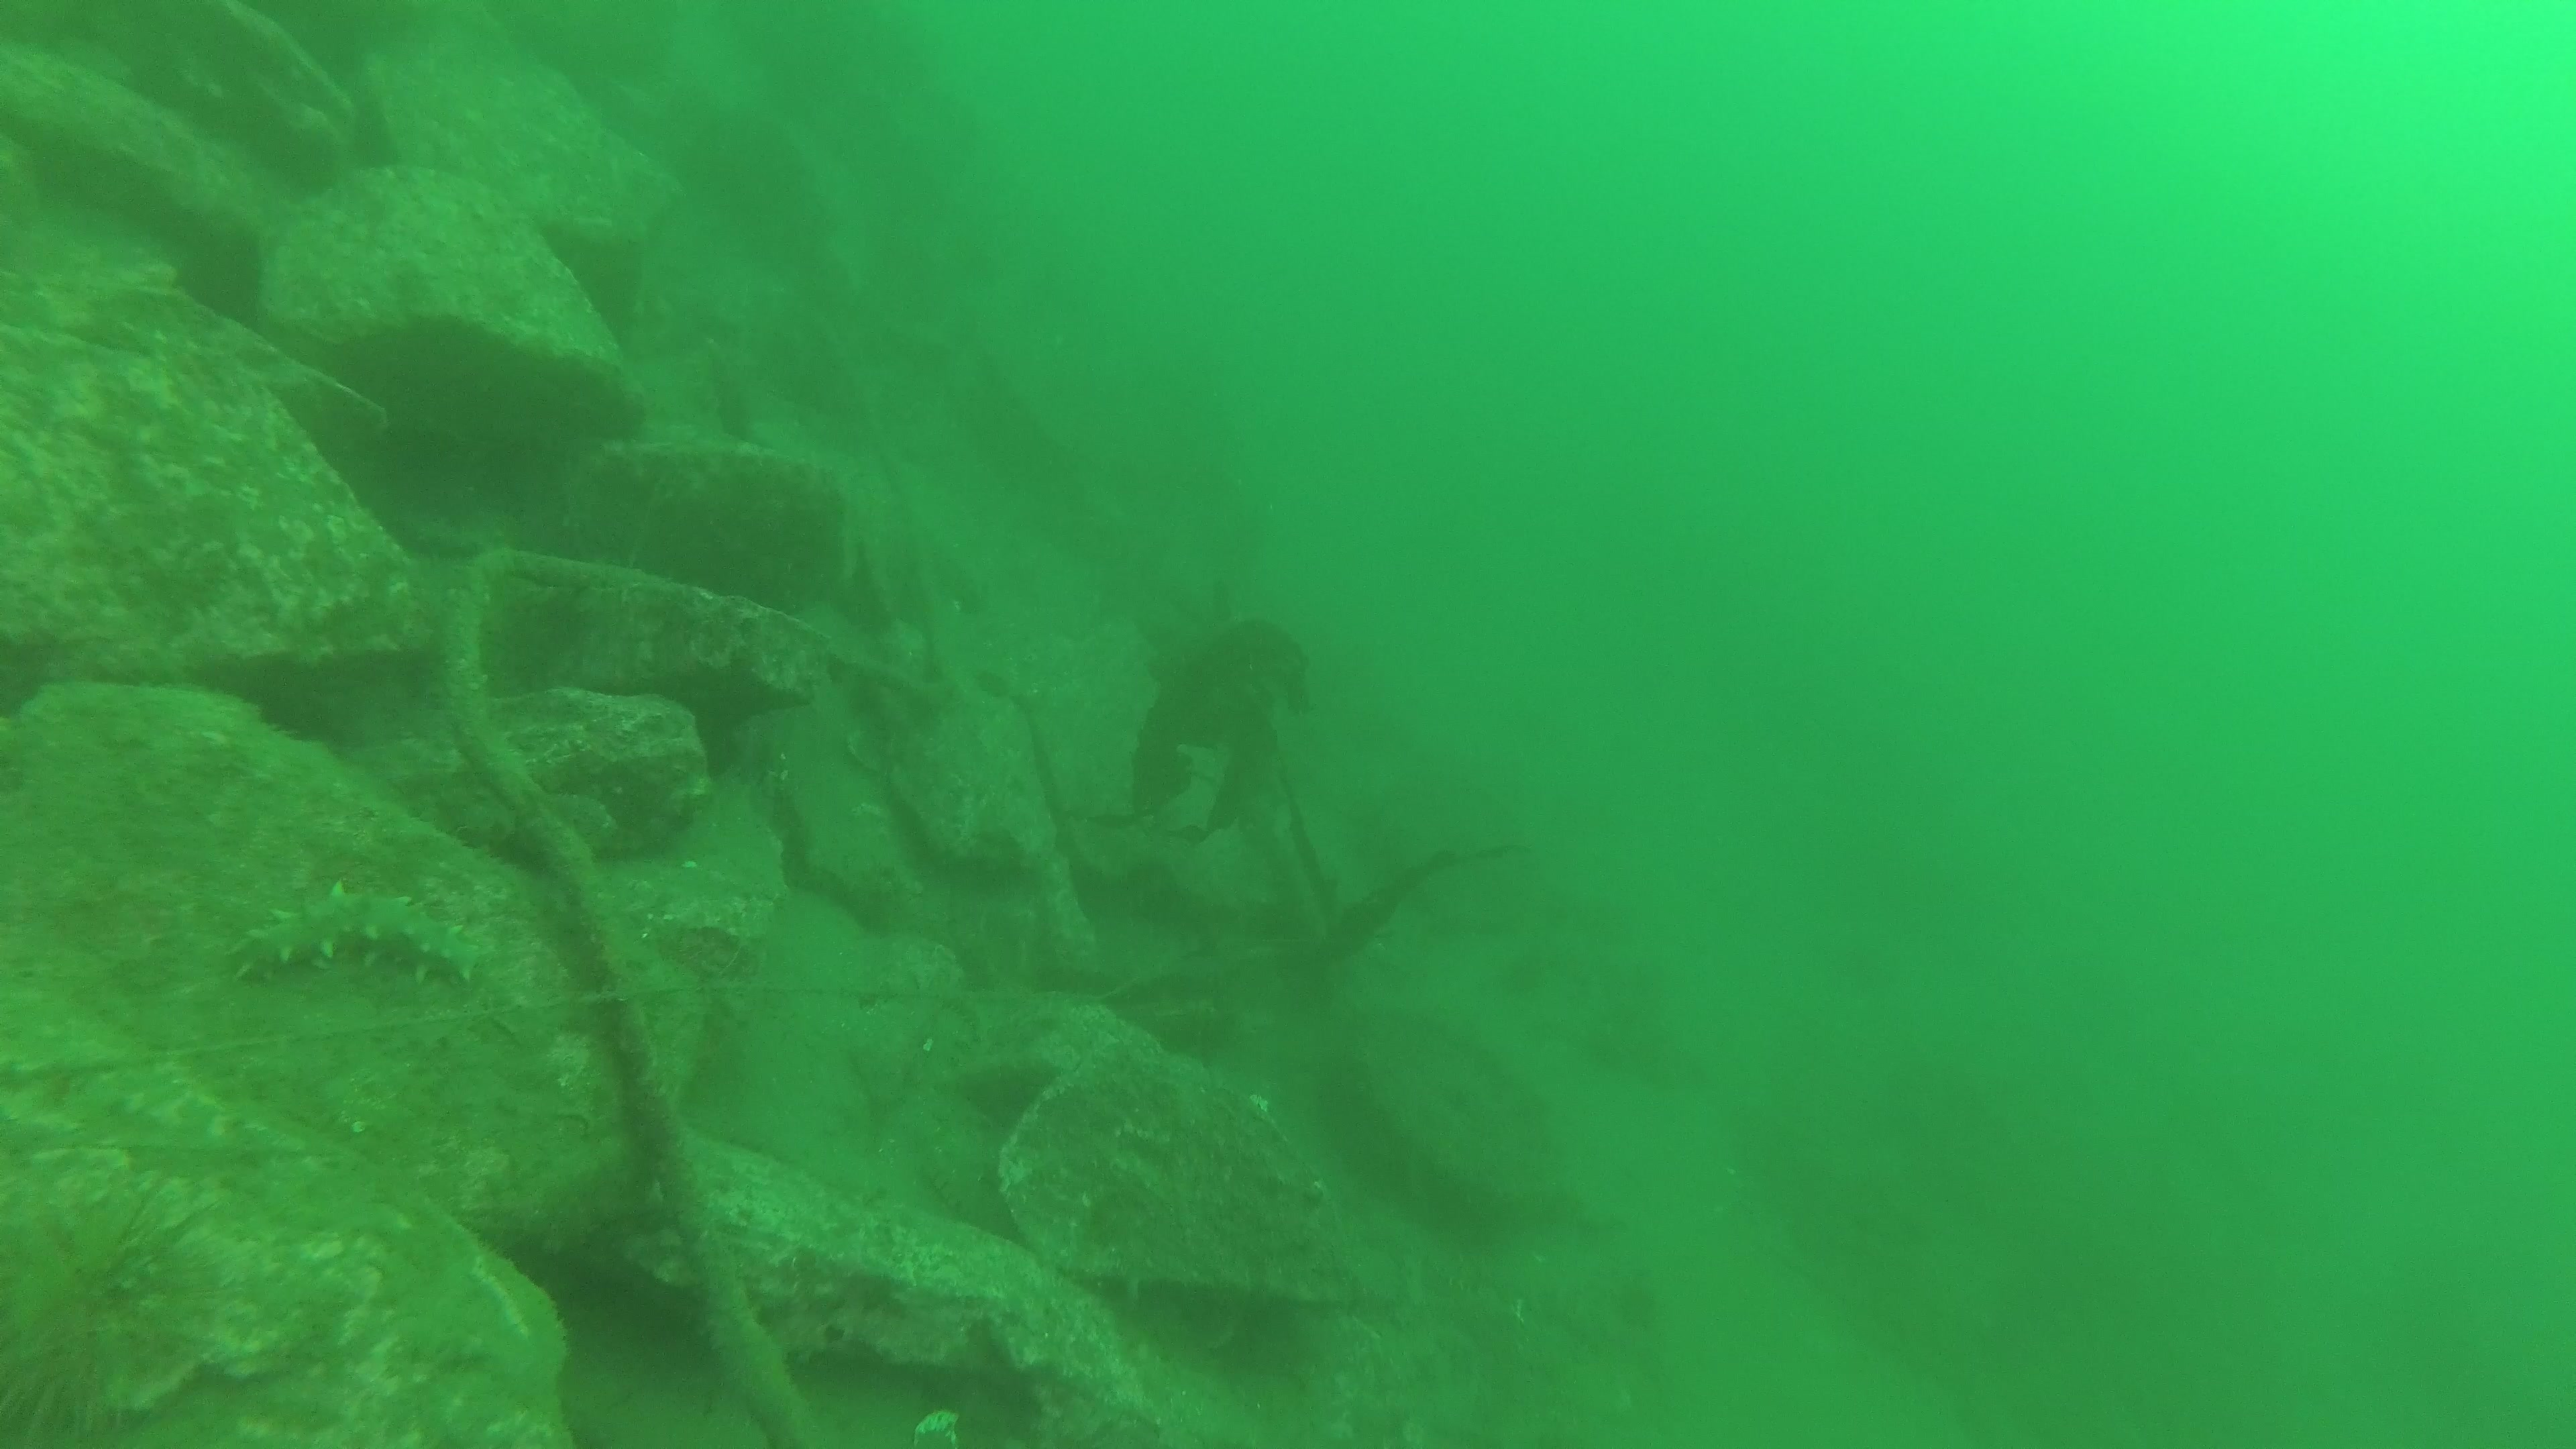echinus: (16, 1196, 209, 1449)
holothurian: (226, 878, 479, 984)
